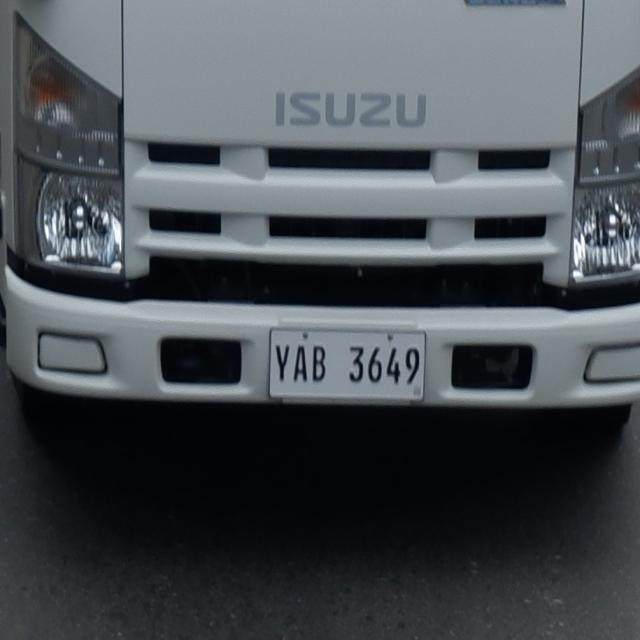LicensePlate: (260, 320, 436, 408)
